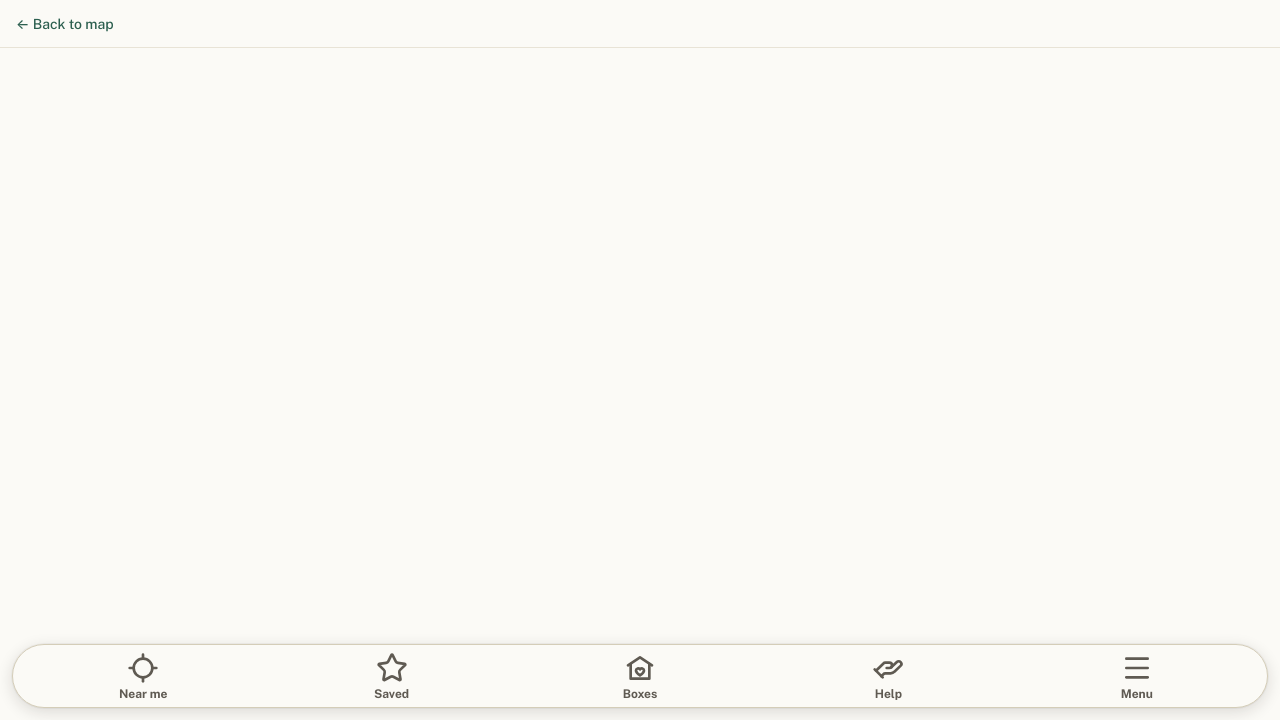
Test case: PageNav › Saved opens the saved view in place
This screenshot has width=1280, height=720.
Click the button with test id "nav-saved" at [392, 676], box top-left (267, 645), bottom-right (516, 707)
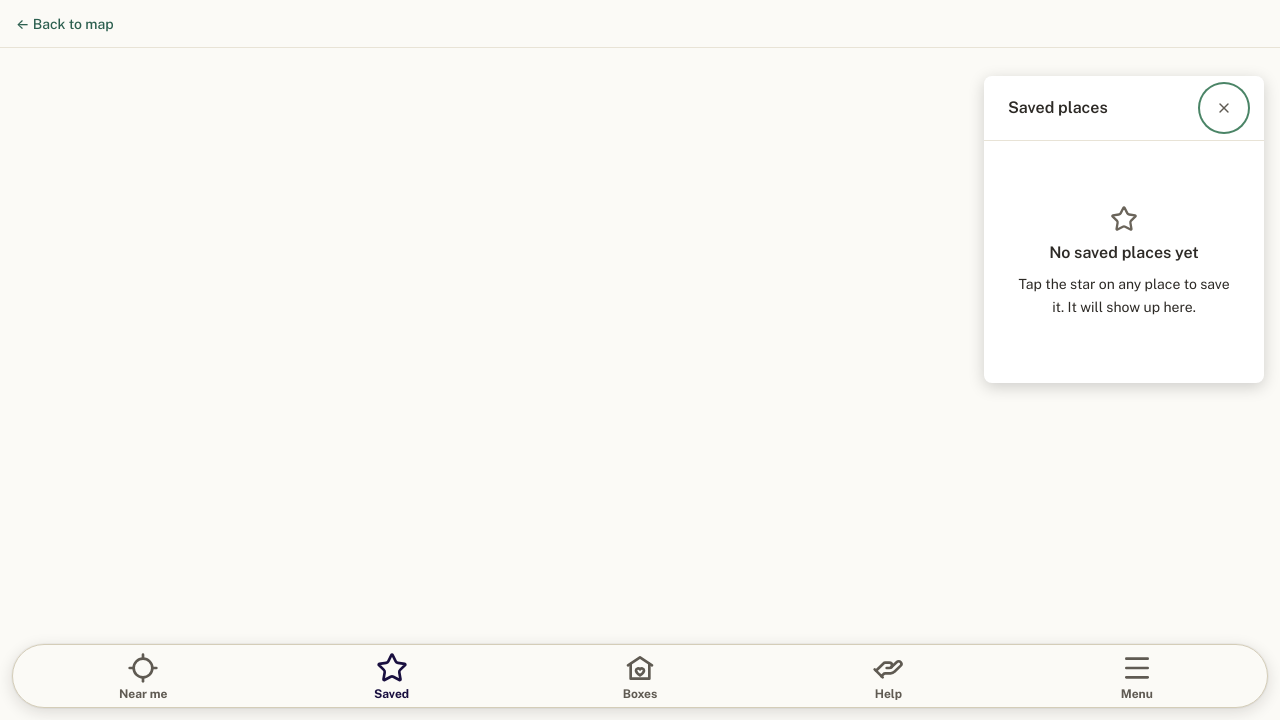
expect the text "No saved places yet" is shown: met, box top-left (1049, 241), bottom-right (1199, 265)
